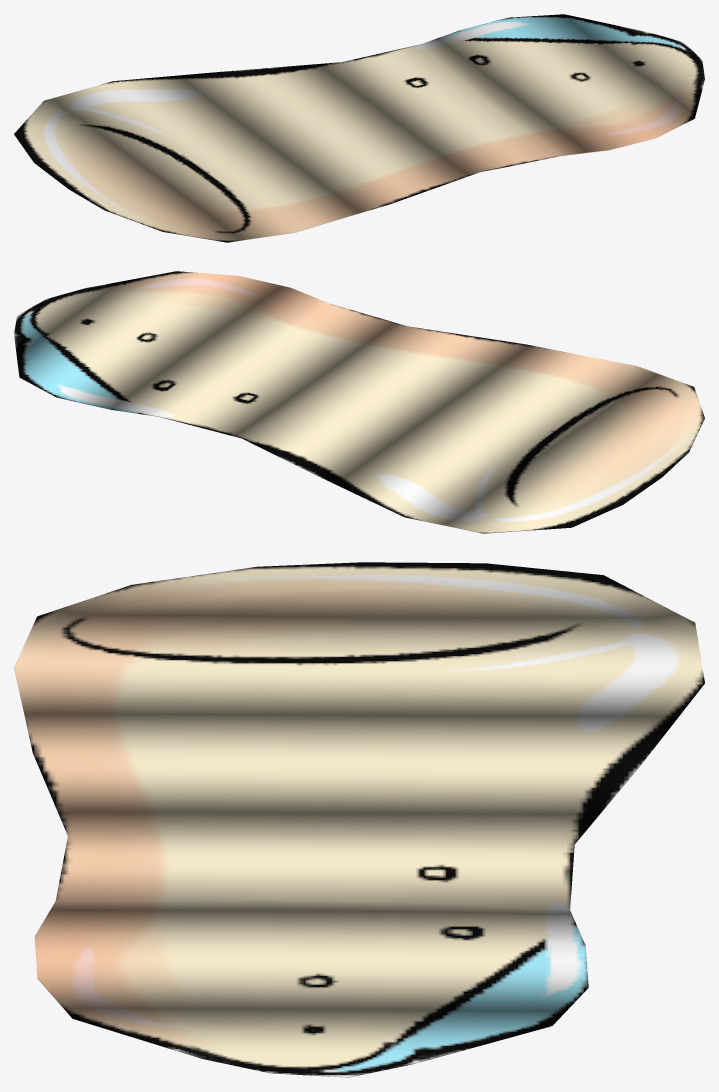
Rendered from Level 129.fbx.
3 renders of one model, top to bottom at view 1: azimuth 30°, elevation 25°; view 2: azimuth 150°, elevation 25°; view 3: azimuth 270°, elevation 25°, orthographic. The views are drawn at different scales.
Parts seen in each view (by area): view 1: bottle; view 2: bottle; view 3: bottle.
Part boxes in pixels (x1=…): bottle: x1=14, y1=14, x2=704, y2=242; bottle: x1=14, y1=271, x2=704, y2=533; bottle: x1=14, y1=562, x2=704, y2=1077.
Size of what is drawn, in the model's own units: 696 by 0.4471 by 395.
